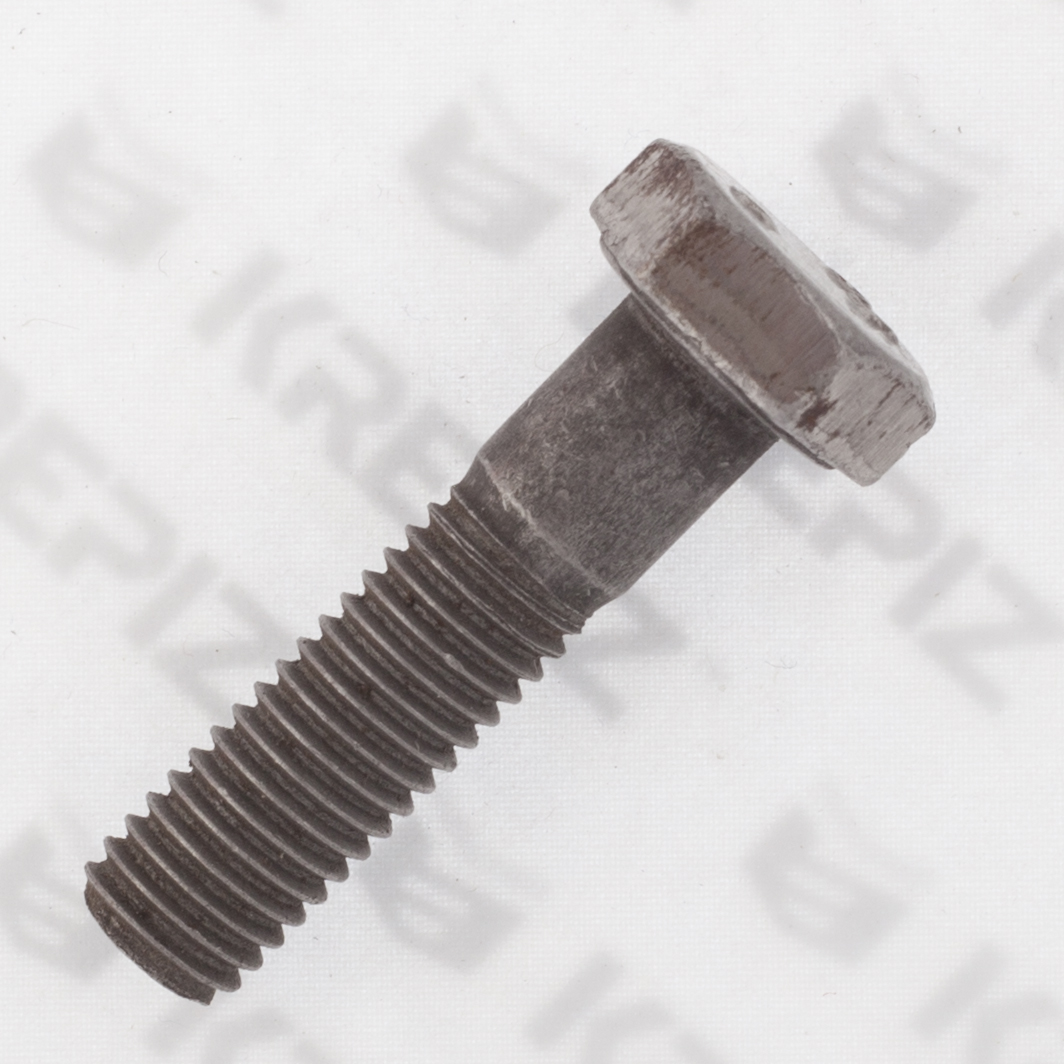screw: (82, 141, 937, 1010)
